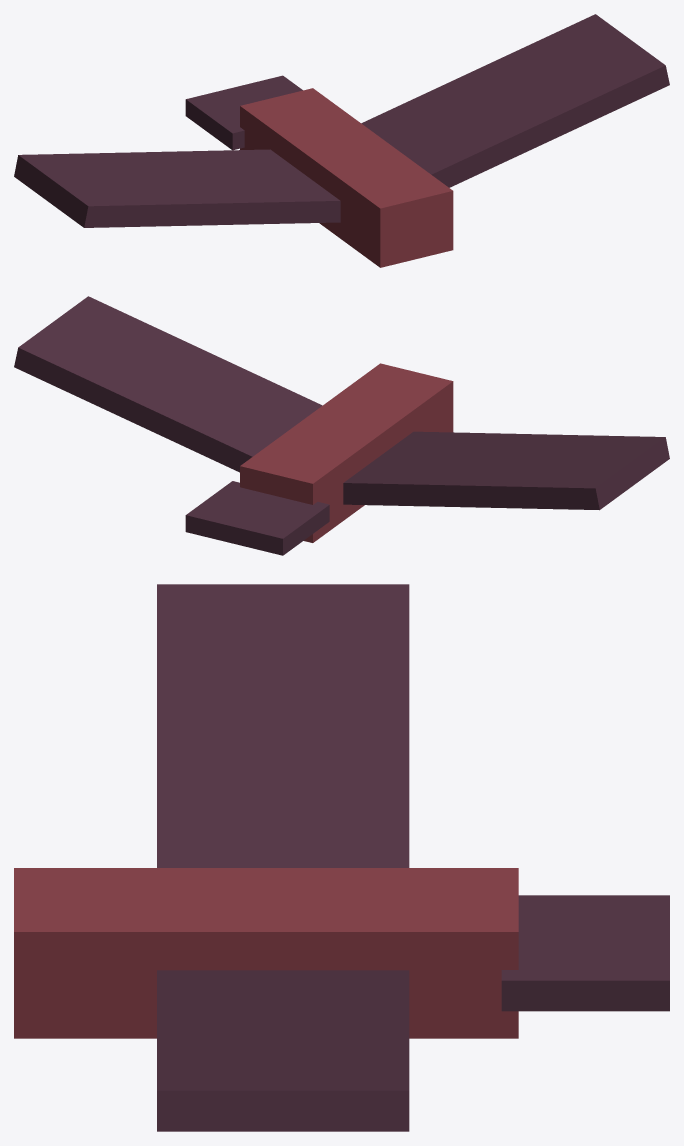
The model's file is bird.glb.
The picture shows the model from 3 angles, top to bottom: view 1: azimuth 30°, elevation 25°; view 2: azimuth 150°, elevation 25°; view 3: azimuth 270°, elevation 25°; orthographic projection. The views are drawn at different scales.
Parts seen in each view (by area): view 1: WingR, WingL, Body, Tail; view 2: WingR, WingL, Body, Tail; view 3: WingL, Body, WingR, Tail.
Boxes of the visible parts, <box> form: WingR: <box>361,14,669,187</box>; WingL: <box>14,149,340,227</box>; Body: <box>240,88,453,267</box>; Tail: <box>185,75,302,150</box>; WingR: <box>14,296,322,472</box>; WingL: <box>343,431,669,510</box>; Body: <box>240,363,453,542</box>; Tail: <box>185,481,329,555</box>; WingL: <box>157,584,409,867</box>; Body: <box>14,868,518,1038</box>; WingR: <box>157,970,409,1131</box>; Tail: <box>501,895,669,1011</box>.
Size of the model in its own units: 1.45 by 0.222 by 0.78.
